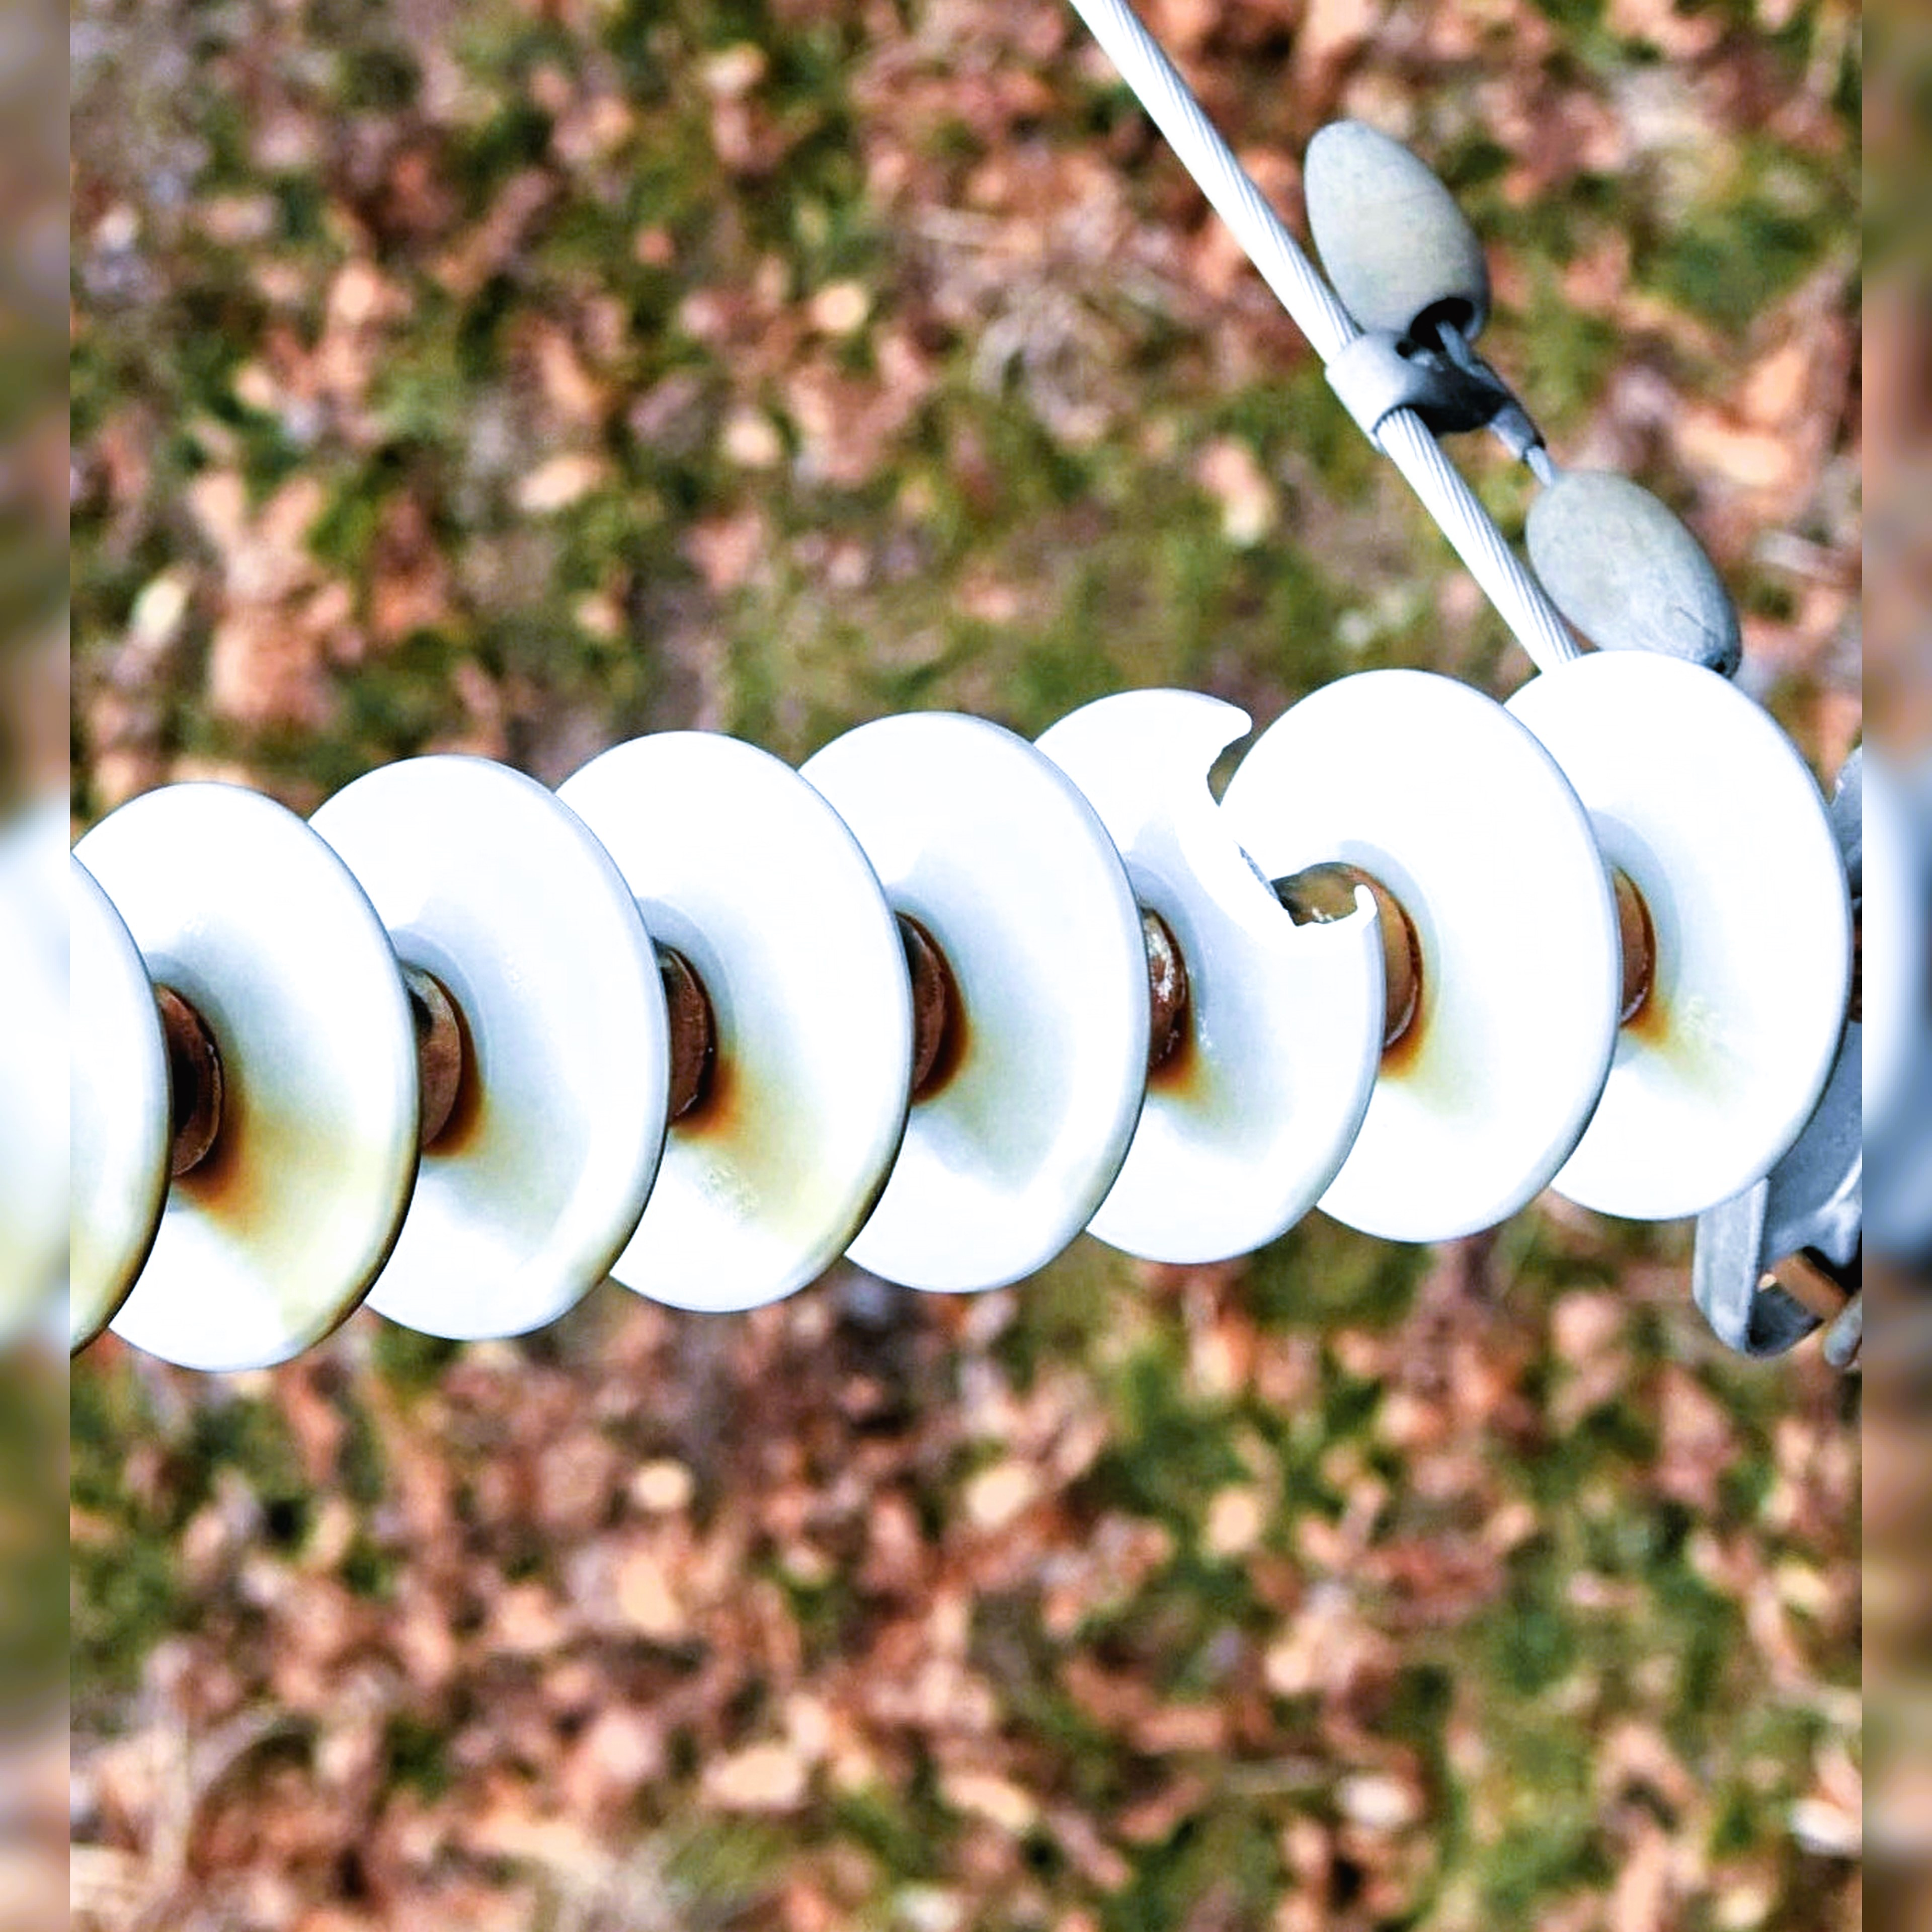insulator breakage: (1012, 683, 1394, 1288)
